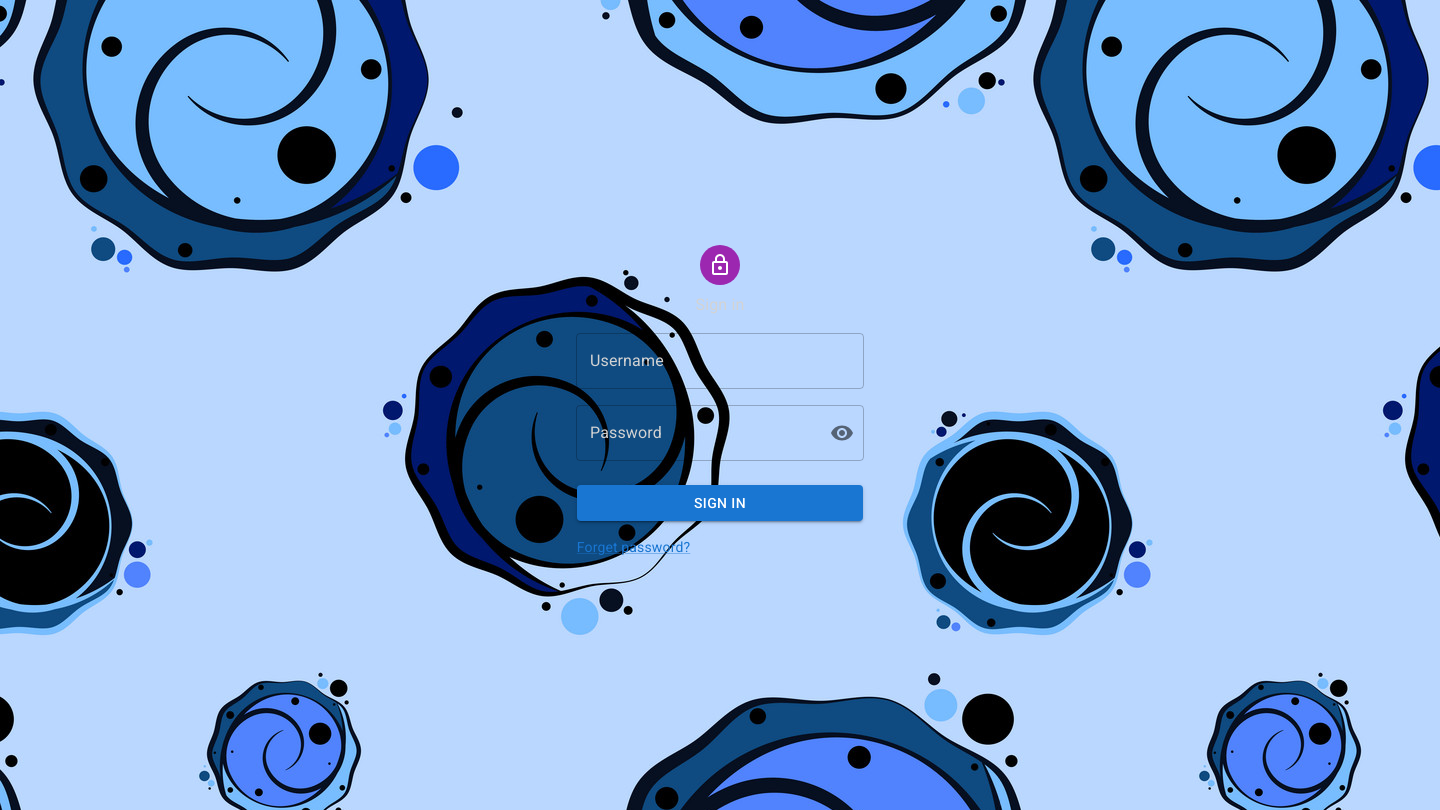
Login Component › validates form inputs
Click the button "SIGN IN" at (720, 503), box 577,485 -> 863,521
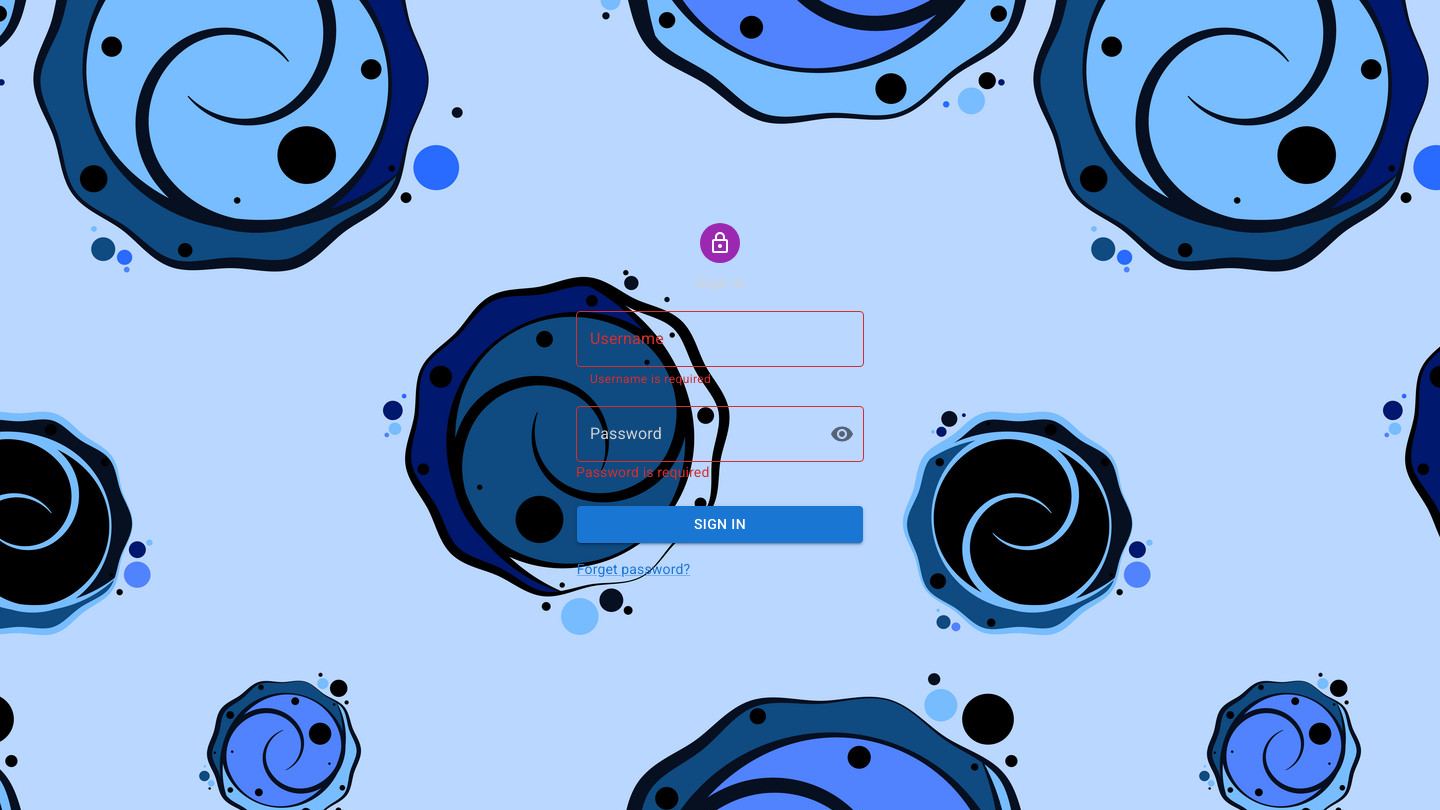
Expected: the text "Username is required" is shown, 590,372 -> 711,386
Expected: the text "Password is required" is shown, 576,464 -> 710,480
